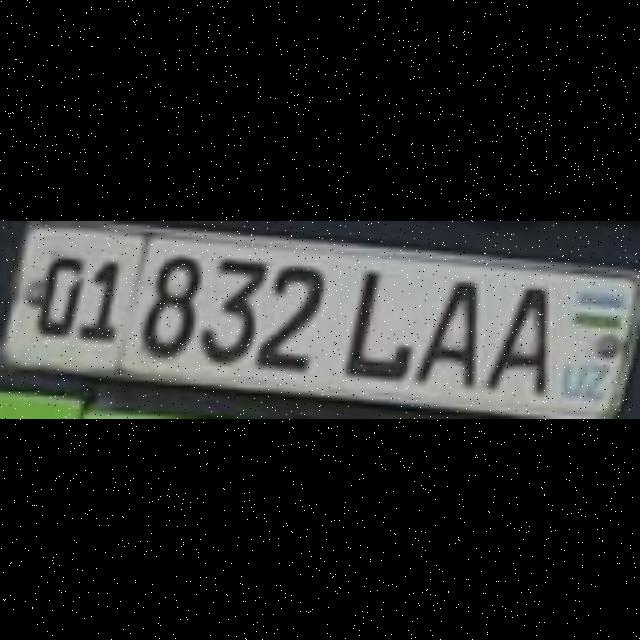0: (30, 252, 80, 328)
1: (72, 255, 110, 335)
2: (252, 258, 316, 366)
3: (198, 252, 260, 358)
8: (138, 252, 195, 354)
A: (476, 282, 542, 388), (408, 274, 472, 382)
L: (338, 266, 404, 374)
